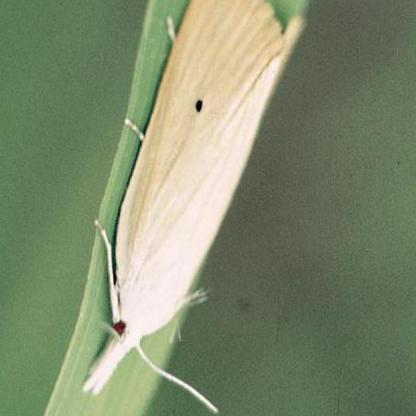stem-borer: (80, 0, 309, 403)
